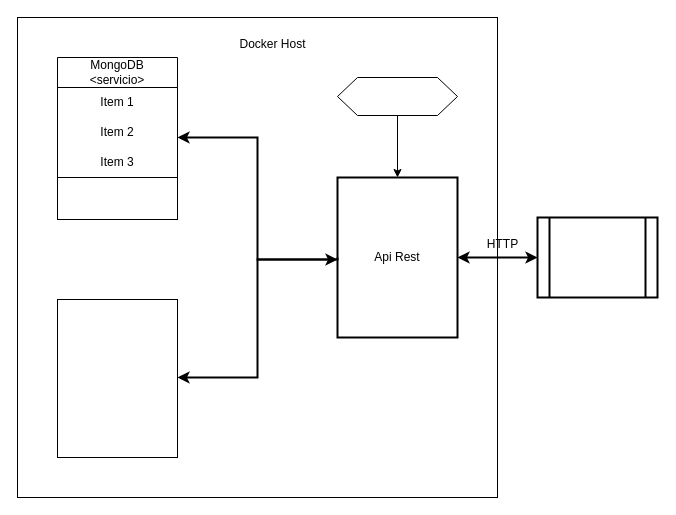
This 676x515 diagram has some shape labels left out. Here are the shapes that lost their labels. From the top down, the centre of each, then its label:
At point 397,96: "Docker Daemon".
At point 597,257: "Frontend".
